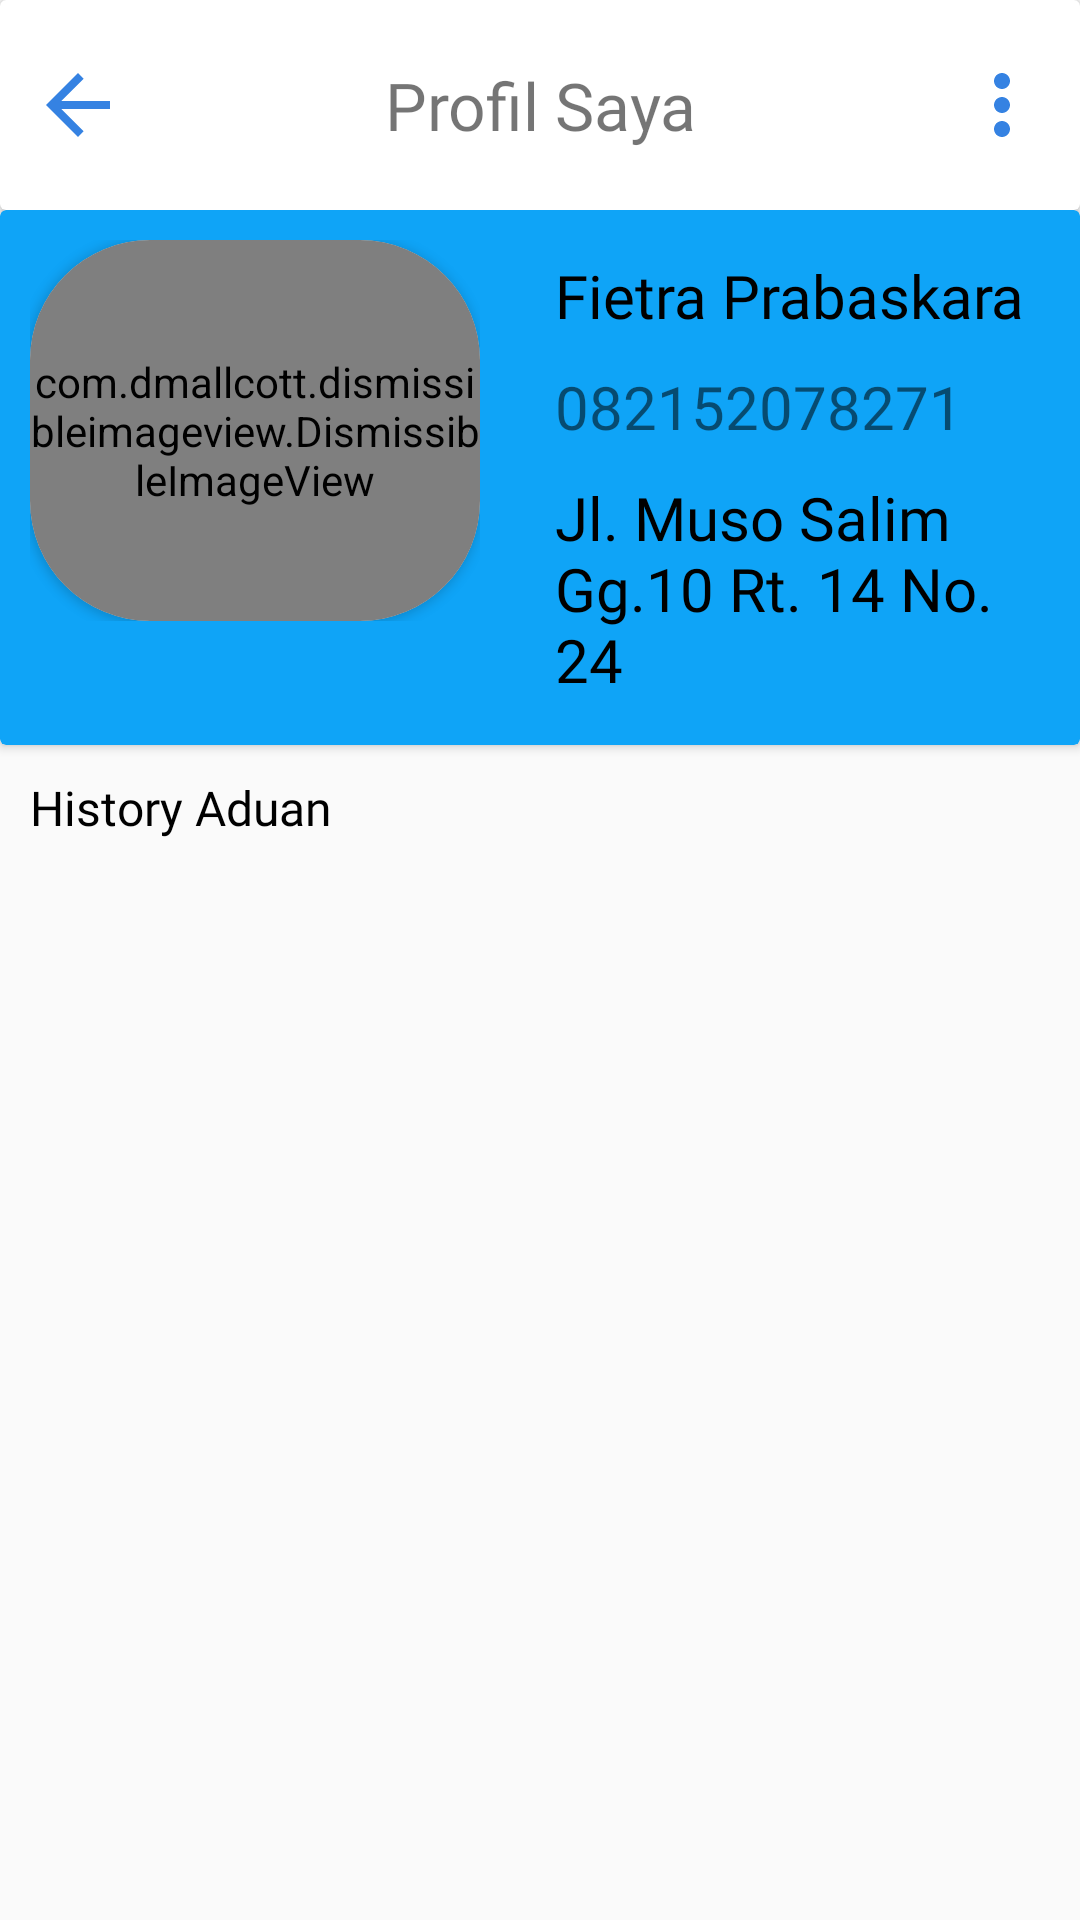

Point at icon controls on the screen. Image size 1080 × 1920, points as [x,y].
arrow back: [78,105]
more vert: [1002,105]
